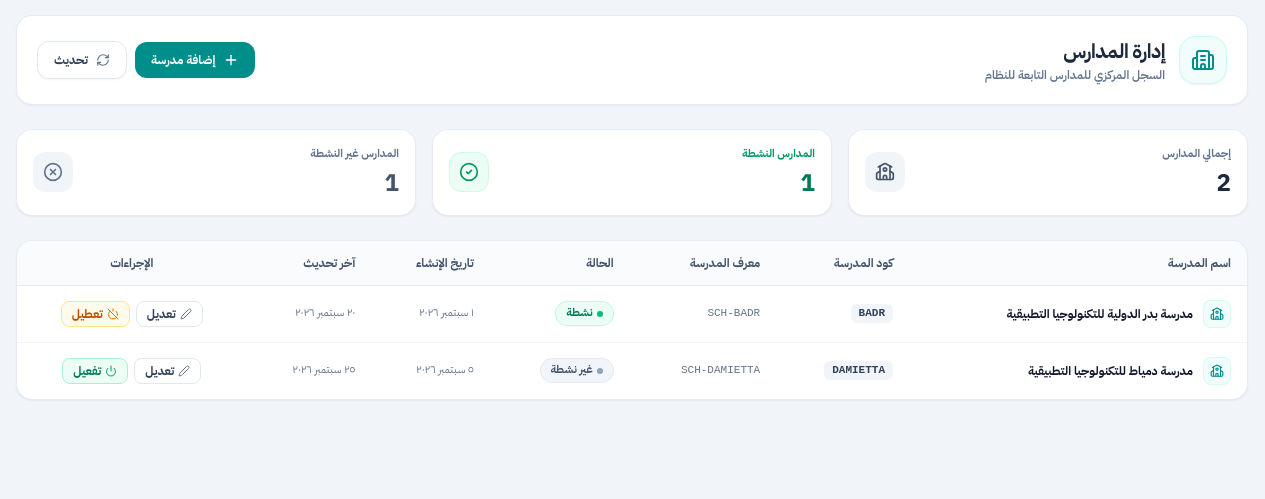
PHASE 3C-A14.2.2 — SCHOOL CREATE / EDIT / STATUS UI › 4. Status Toggle: Activate & Deactivate › Backend binding failure leaves school Inactive and shows safe Arabic message without exposing spreadsheetId
Step 1. Click the button "تفعيل" → click(95, 370), box [62,358,128,384]
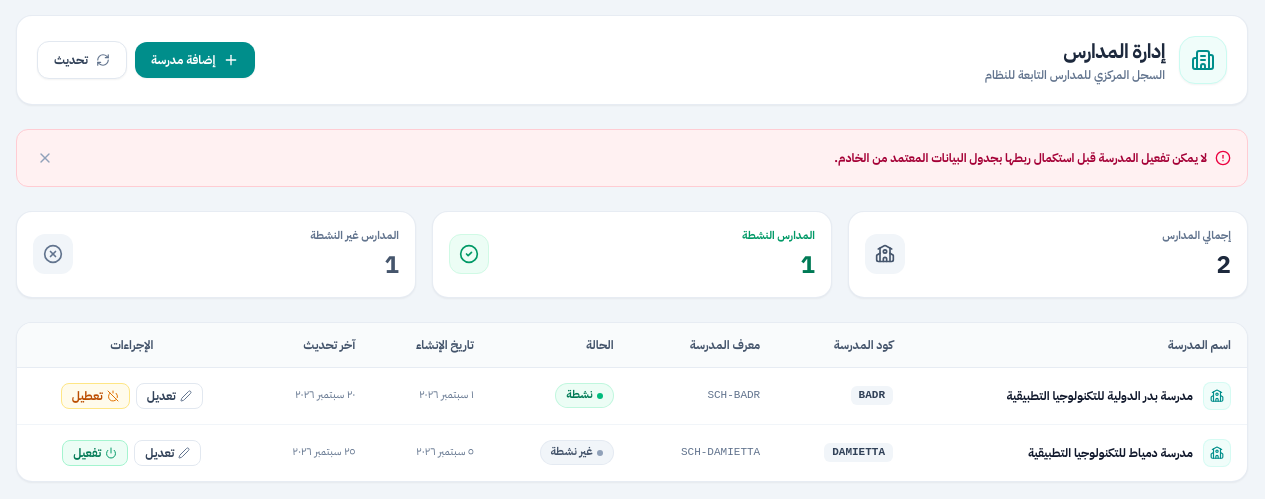
Result: the text "لا يمكن تفعيل المدرسة قبل استكمال ربطها بجدول البيانات المعتمد من الخادم." is shown at [834,150,1207,166]
